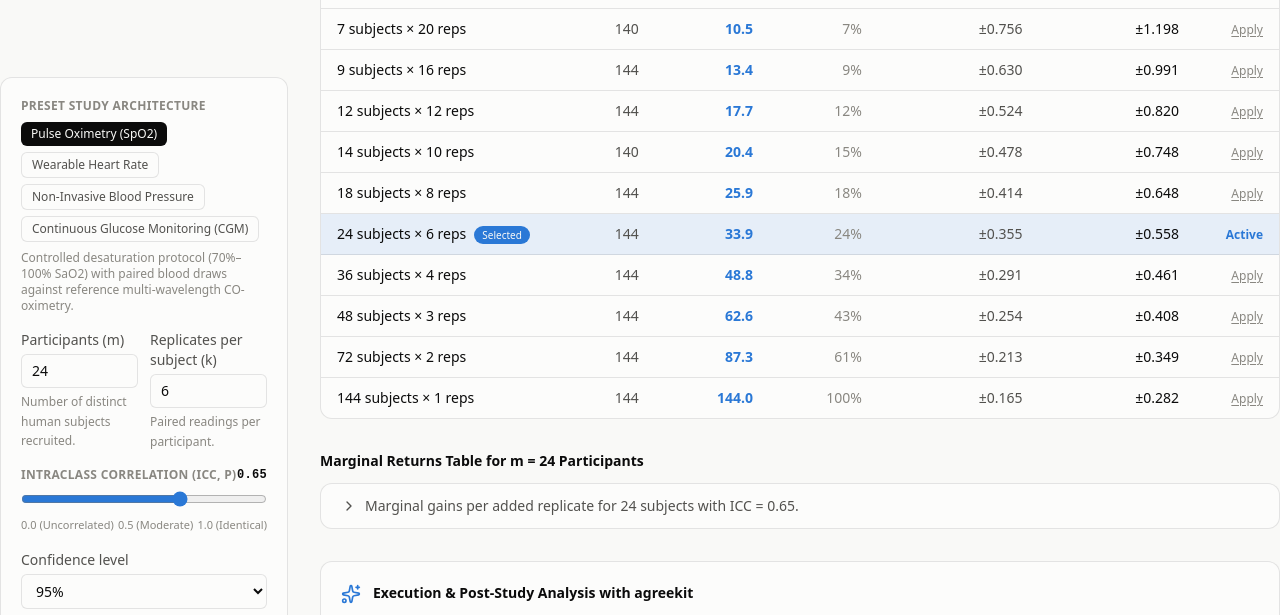
RepeatedMeasuresPage › renders the dynamic allocation matrix for active study budget and highlights selected
(page scrolled)
Expected: the text "24 subjects × 6 reps" is shown, [321,214,551,255]
Expected: the text "Selected" is shown, [474,226,530,244]
Click the text "72 subjects × 2 reps": [436, 357] box [321,337,551,378]
(page scrolled)
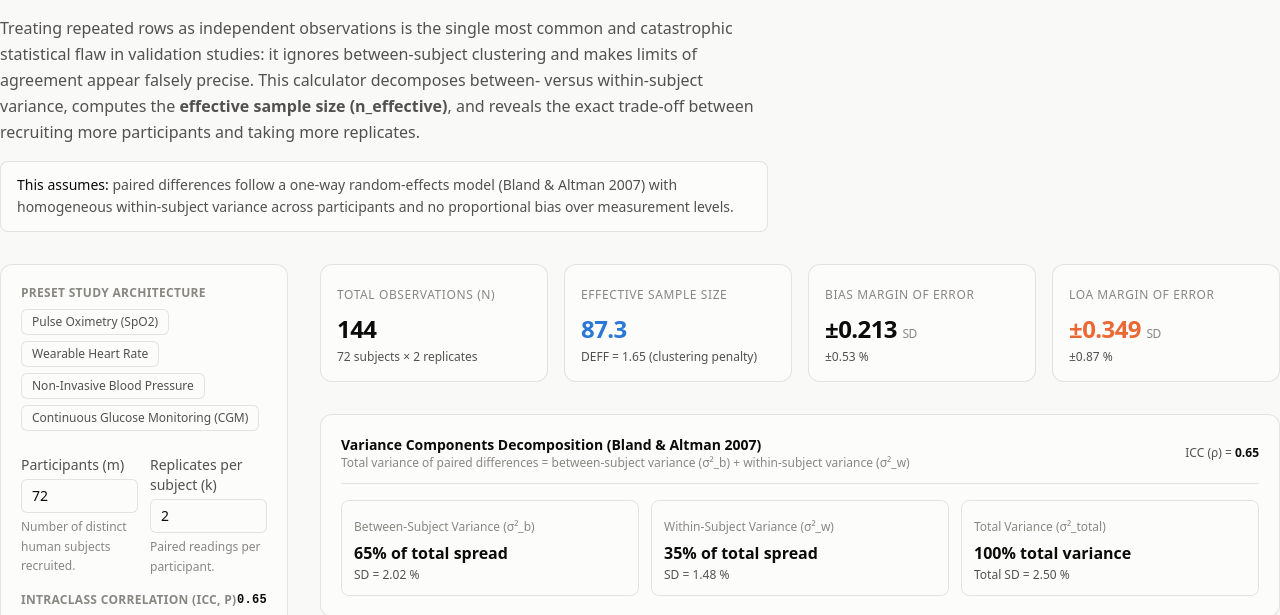
Now the text "72 subjects × 2 replicates" is shown, box [337,348,478,365]
